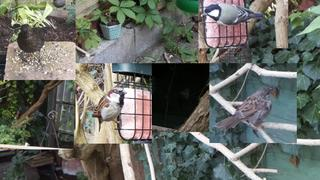blackbird: (16, 24, 52, 68)
dunnock: (214, 87, 273, 131)
great tit: (201, 3, 264, 26)
sparrow: (91, 87, 128, 132)
